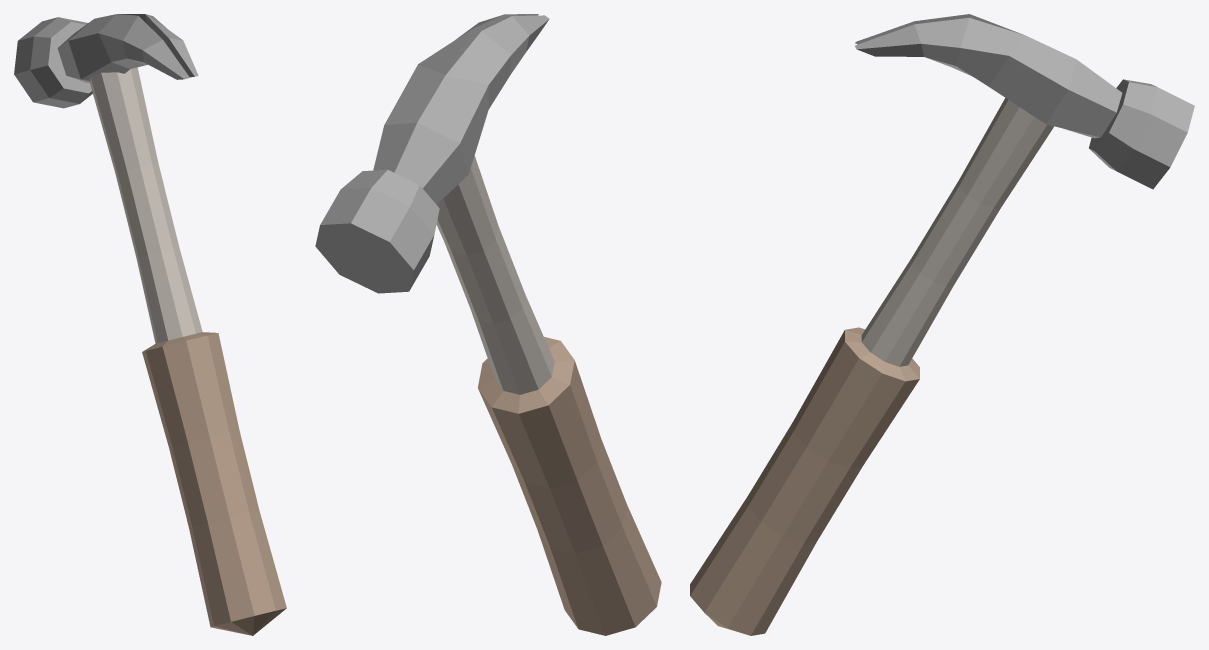
File: hammer.fbx
3 renders of one model, left to right at view 1: azimuth 30°, elevation 25°; view 2: azimuth 150°, elevation 25°; view 3: azimuth 270°, elevation 25°, orthographic. The views are drawn at different scales.
Visible parts, largest first — view 1: pCylinder1, pCylinder2, pCube1, pCylinder3; view 2: pCylinder1, pCube1, pCylinder2, pCylinder3; view 3: pCylinder1, pCylinder2, pCube1, pCylinder3.
Boxes of the visible parts, box(x1,y1,x2,y2) form: pCylinder1: box(142, 332, 286, 635); pCylinder2: box(89, 67, 202, 343); pCube1: box(57, 14, 198, 82); pCylinder3: box(14, 17, 92, 108); pCylinder1: box(478, 337, 661, 635); pCube1: box(373, 14, 549, 204); pCylinder2: box(436, 156, 554, 394); pCylinder3: box(315, 169, 439, 293); pCylinder1: box(690, 327, 919, 635); pCylinder2: box(861, 98, 1053, 366); pCube1: box(855, 14, 1122, 138); pCylinder3: box(1089, 79, 1194, 189).
Bounding box in the file's own units: 0.575 × 3.83 × 2.86.
